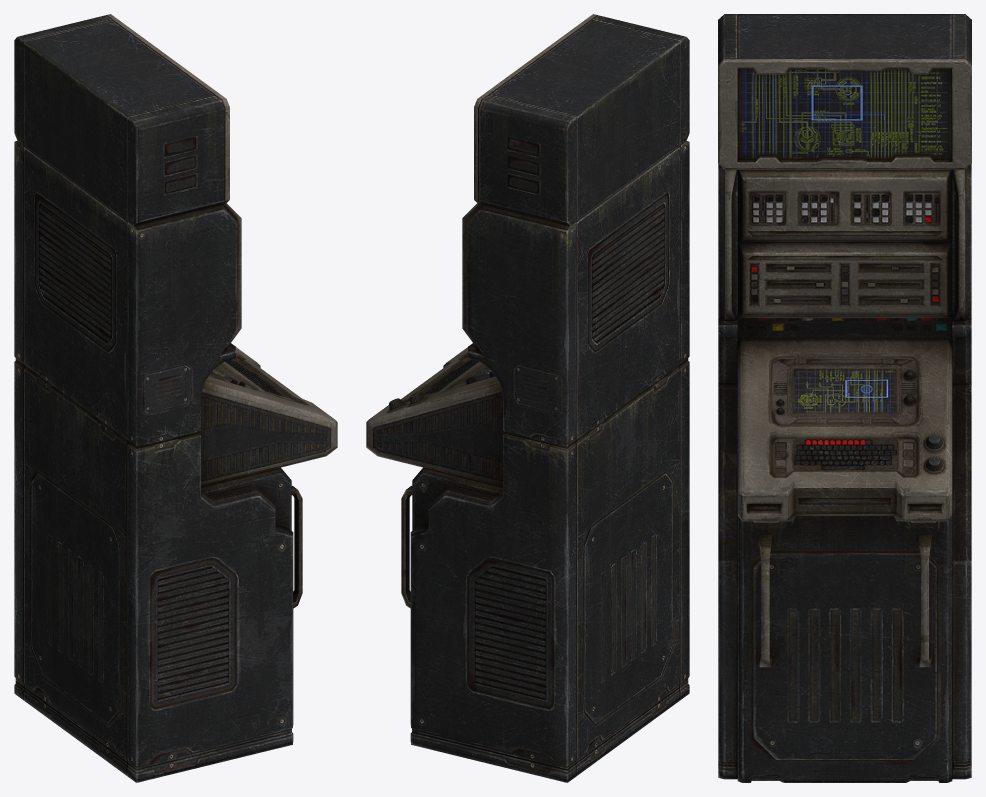
File: prop_computerStation_C.fbx
3 views of the same model, side by side, from view 1: azimuth 30°, elevation 25°; view 2: azimuth 150°, elevation 25°; view 3: azimuth 270°, elevation 25° (orthographic). The views are drawn at different scales.
Visible parts, largest first — view 1: prop_computerUnit_C; view 2: prop_computerUnit_C; view 3: prop_computerUnit_C.
Part boxes in pixels (x1=…): prop_computerUnit_C: x1=14, y1=14, x2=337, y2=782; prop_computerUnit_C: x1=366, y1=14, x2=689, y2=782; prop_computerUnit_C: x1=718, y1=14, x2=971, y2=782.
Size of the model in its own units: 107 by 316 by 106.
Materials: 2 (2 with a texture image).
